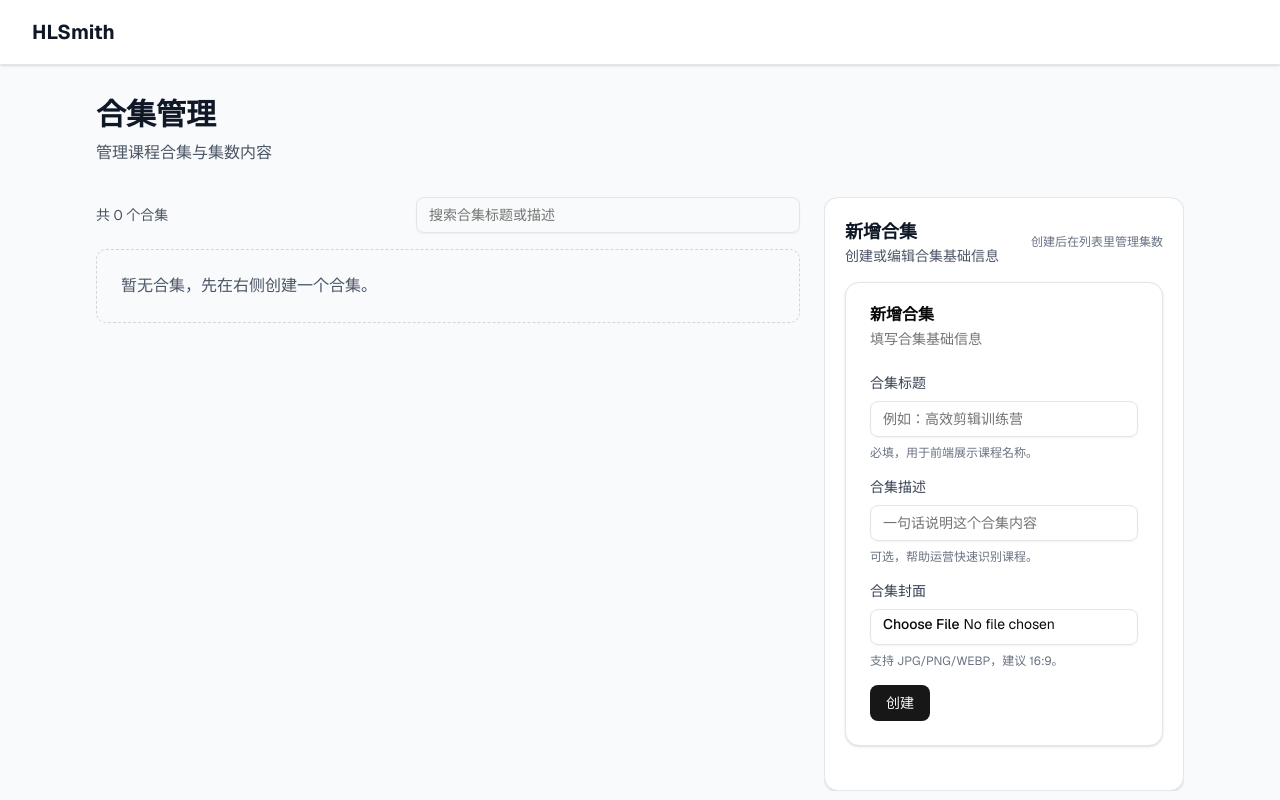
Test case: CollectionsPage › creates collection successfully
Check: the text "暂无合集，先在右侧创建一个合集。" is shown, box [96, 249, 800, 323]
Type "Series B" into the field labelled "合集标题". click: coordinates (1004, 419)
box: [870, 401, 1138, 437]
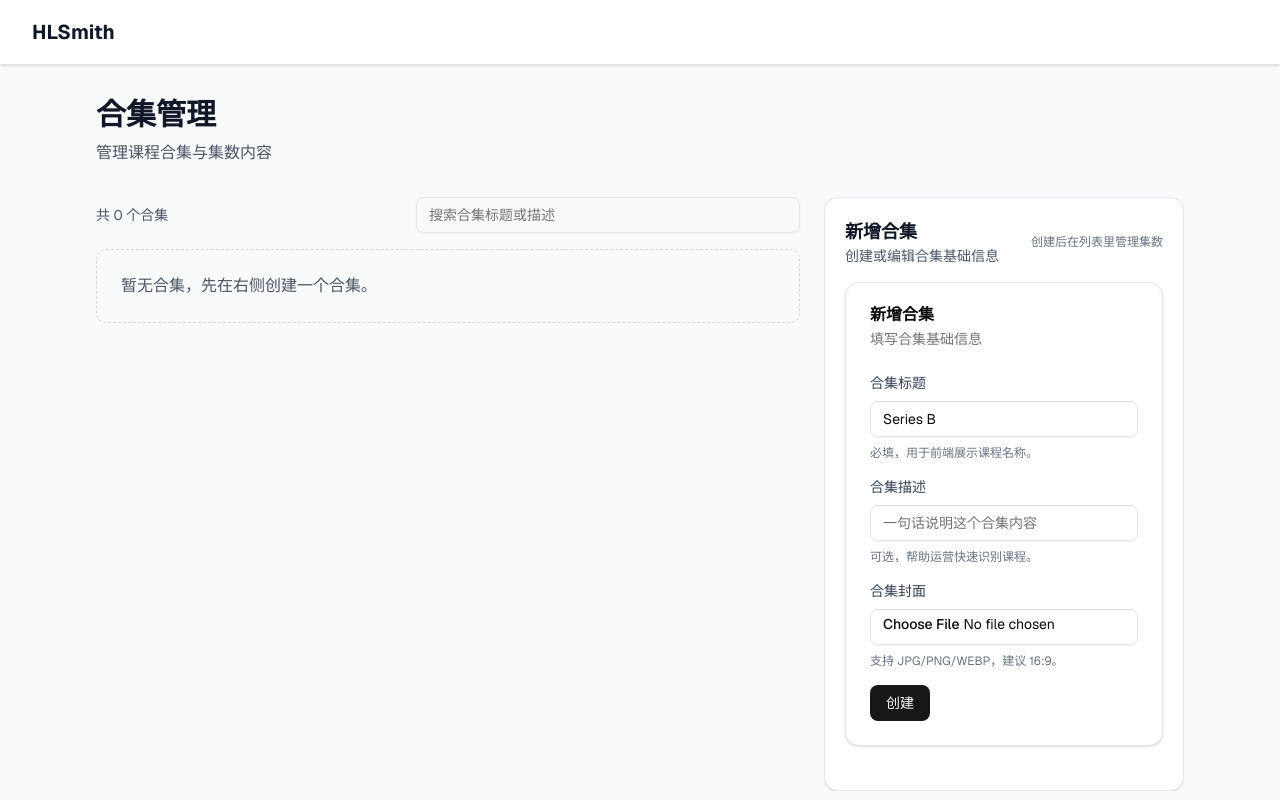
Click the button "创建". click: coordinates (900, 703)
box: [870, 685, 930, 721]
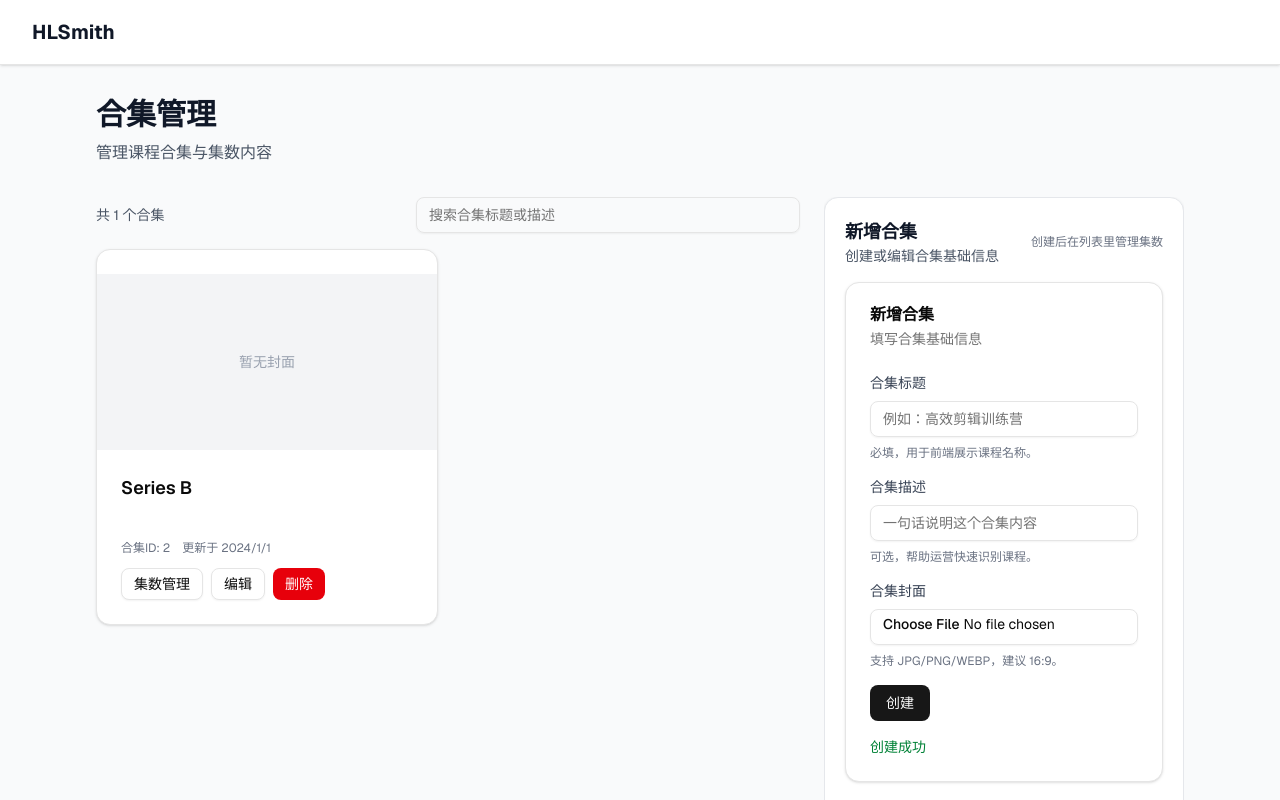
Check: the text "创建成功" is shown, box [870, 738, 926, 756]
Check: the text "Series B" is shown, box [121, 476, 192, 499]
